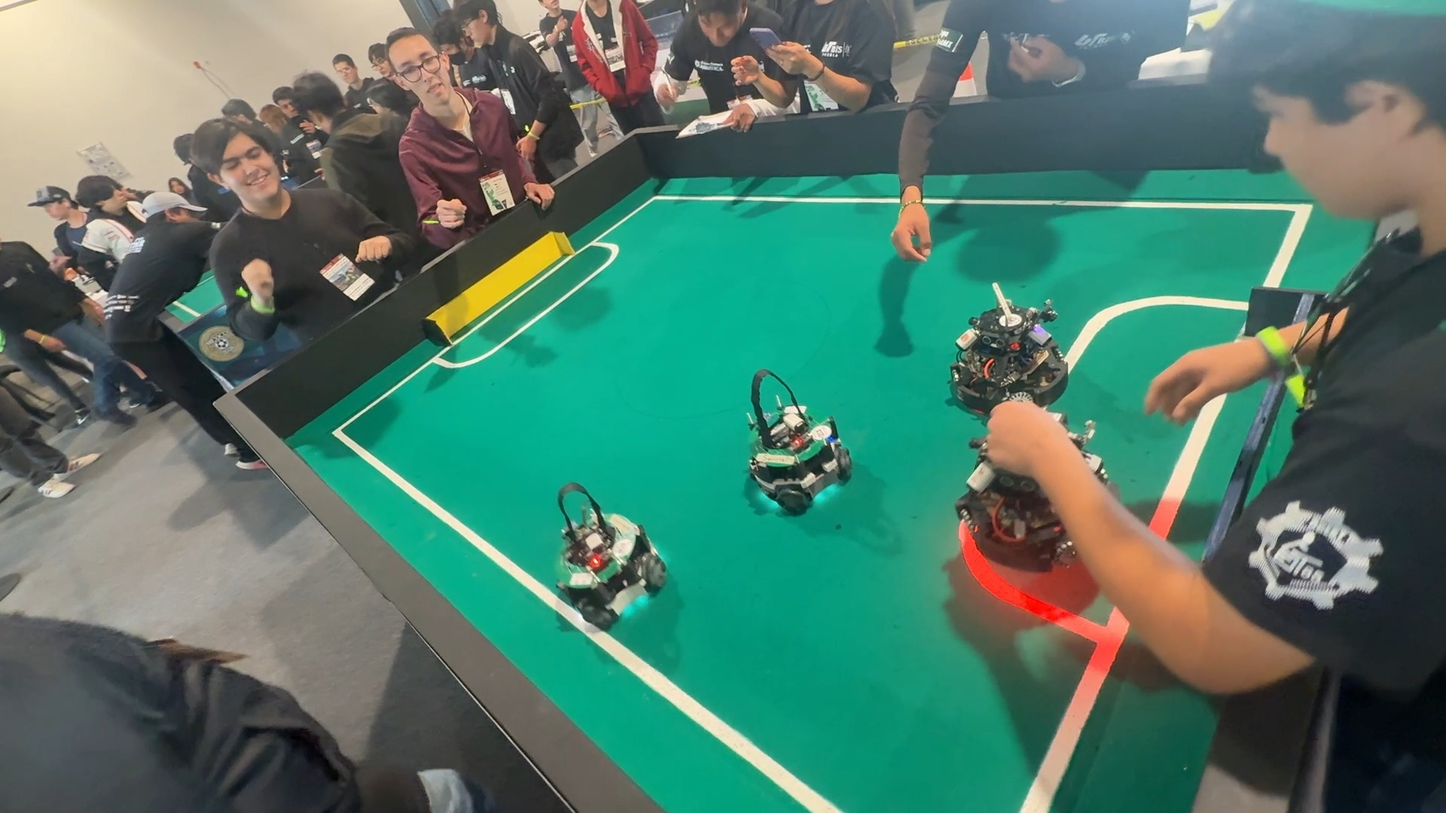Robot: (493, 476, 688, 653), (946, 424, 1130, 585), (725, 363, 865, 539), (944, 289, 1082, 417)
